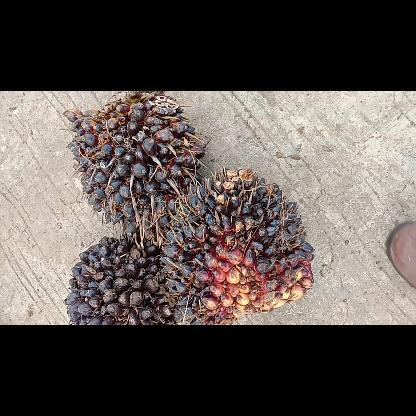TBS mentah: (161, 165, 317, 324), (60, 91, 209, 239), (62, 232, 180, 324)
